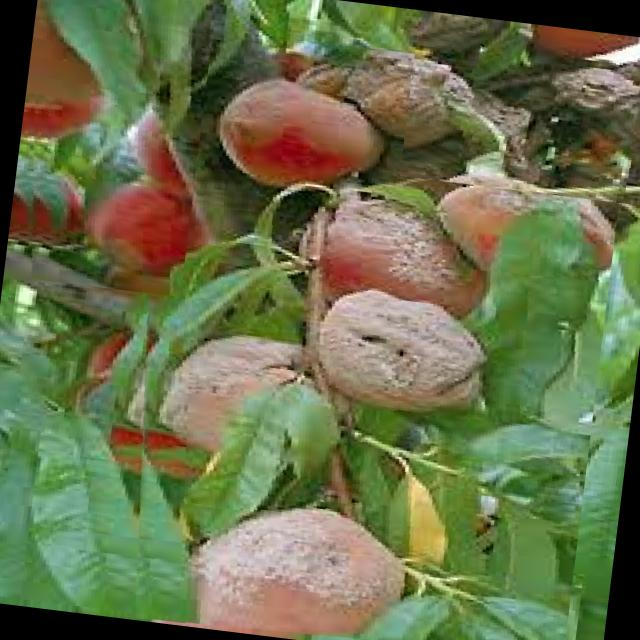Organic: (86, 22, 633, 640), (3, 7, 213, 297), (399, 10, 640, 207)
